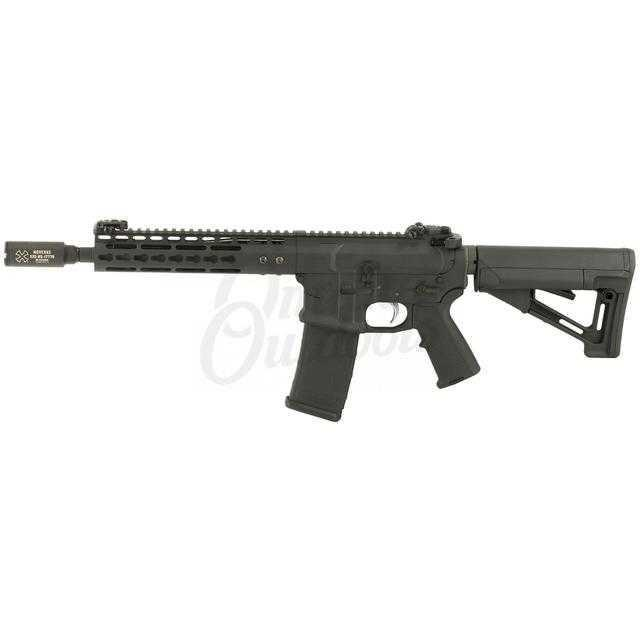weapon: (0, 165, 637, 442)
